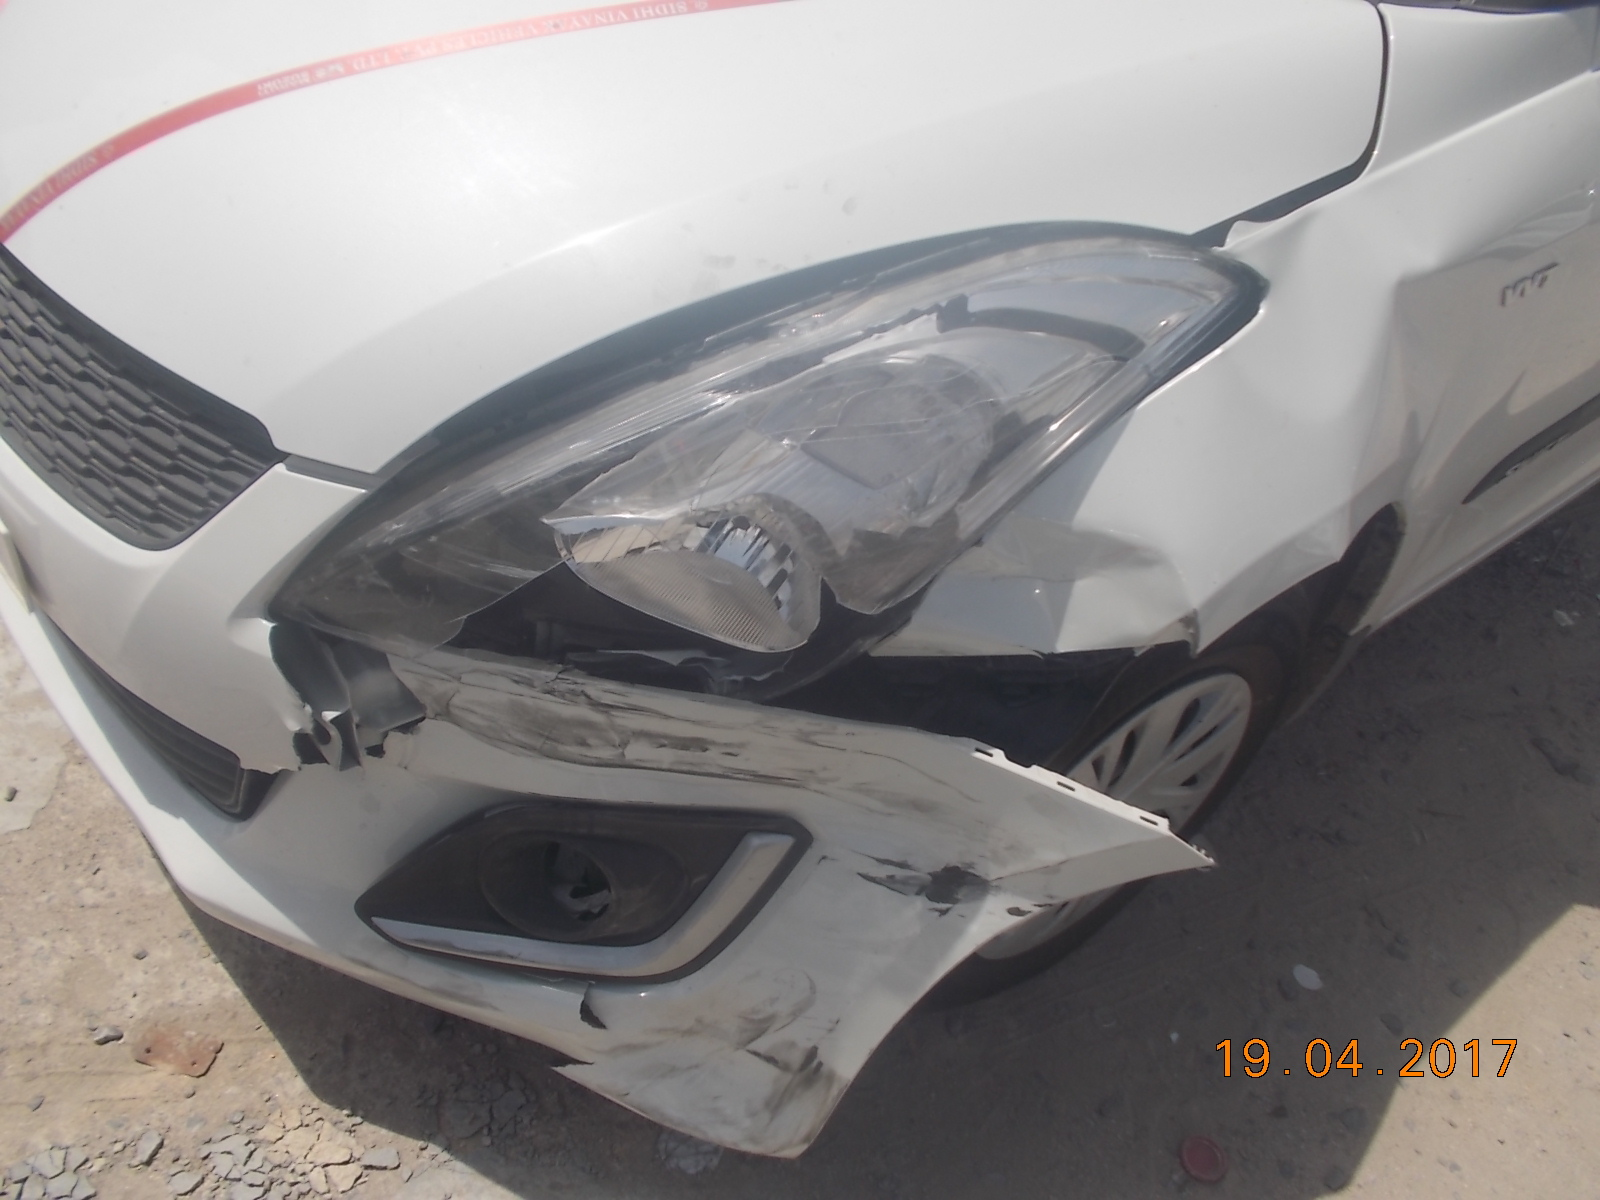Dent: (1037, 482, 1220, 566)
Dislocation: (787, 603, 1167, 807)
Scratch_or_spot: (459, 666, 756, 811), (734, 1022, 808, 1113)
Tear: (233, 681, 379, 811)
